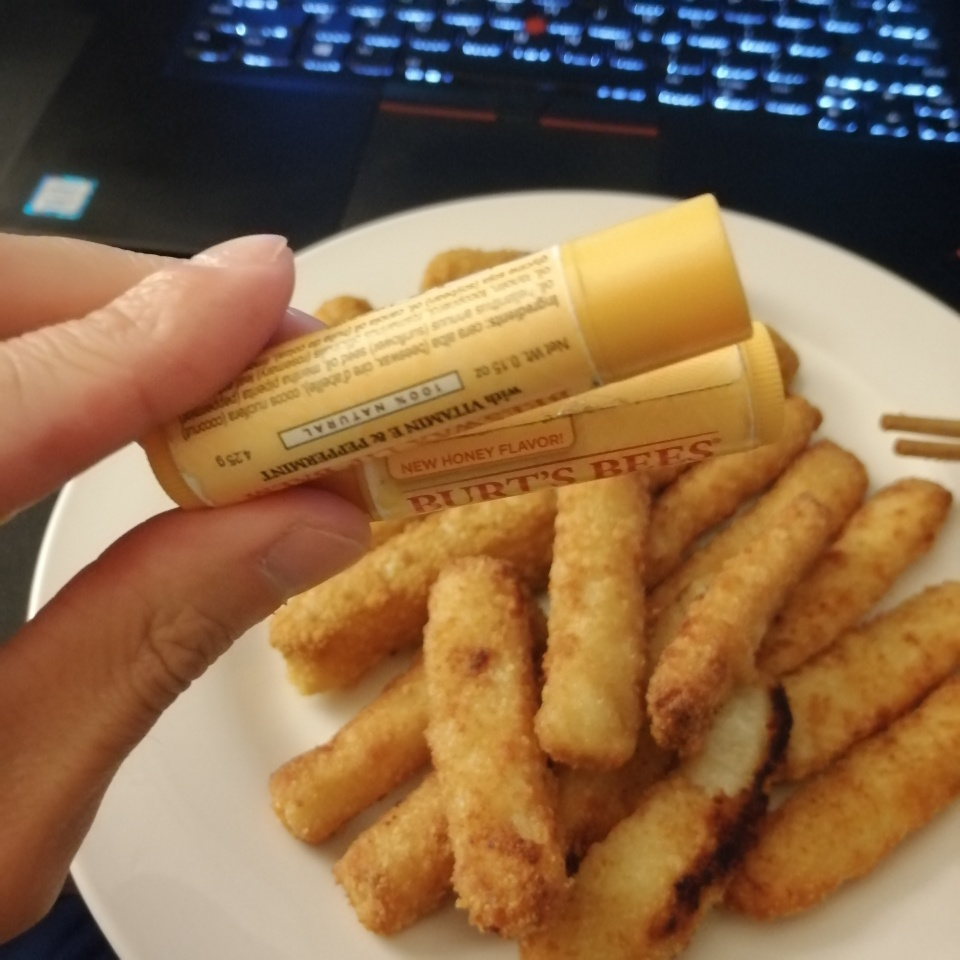chapstick: (145, 192, 755, 508), (281, 323, 788, 524)
